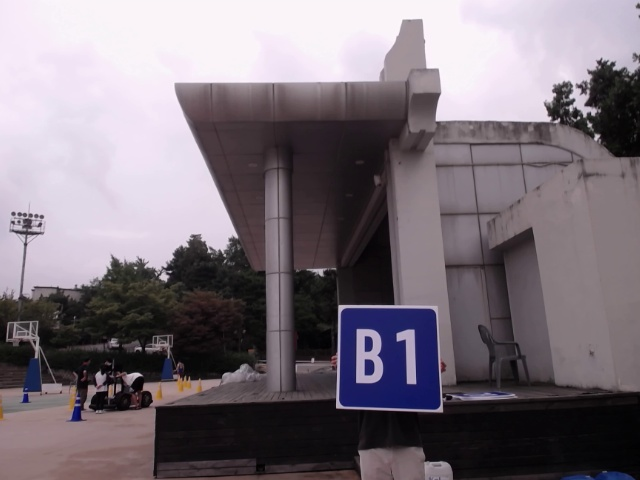delivery_b1: (339, 304, 442, 412)
